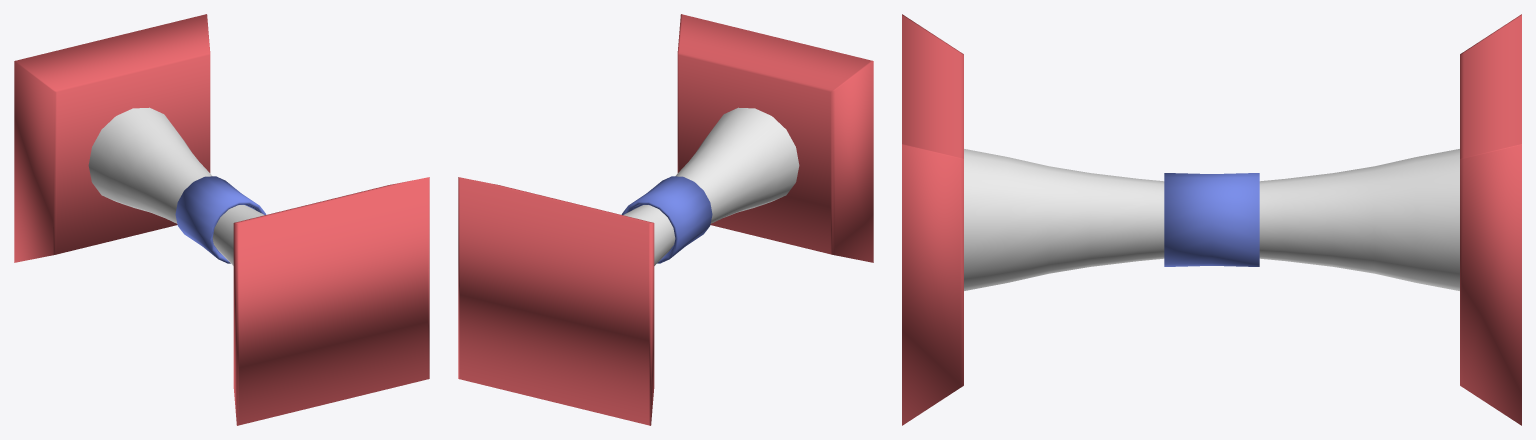
File: Column.fbx
3 renders of one model, left to right at view 1: azimuth 30°, elevation 25°; view 2: azimuth 150°, elevation 25°; view 3: azimuth 270°, elevation 25°, orthographic. The views are drawn at different scales.
Visible parts, largest first — view 1: Cylinder; view 2: Cylinder; view 3: Cylinder.
Boxes of the visible parts, x1,y1,x2,y2 form: Cylinder: (14, 14, 429, 425); Cylinder: (458, 14, 873, 425); Cylinder: (902, 14, 1521, 425).
Bounding box in the file's own units: 200 × 200 × 400.
